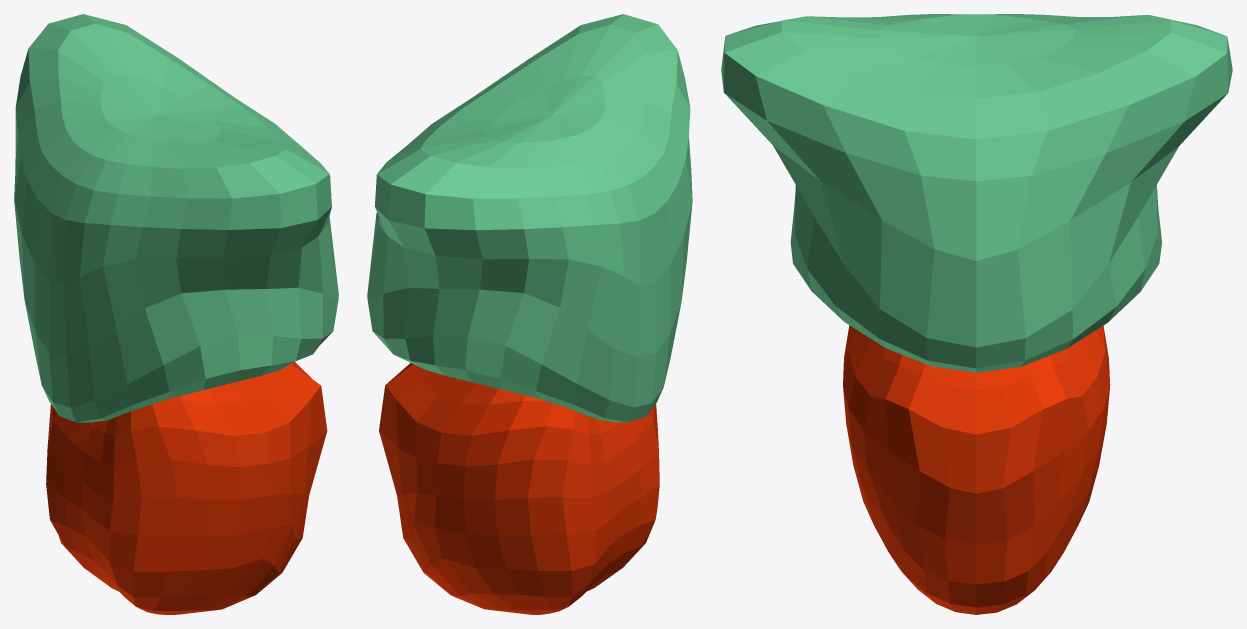
The model's file is torso_variant-3.glb.
3 renders of one model, left to right at view 1: azimuth 30°, elevation 25°; view 2: azimuth 150°, elevation 25°; view 3: azimuth 270°, elevation 25°, orthographic. The views are drawn at different scales.
Parts seen in each view (by area): view 1: torso-1, belly-1; view 2: torso-1, belly-1; view 3: torso-1, belly-1.
Part boxes in pixels (<box>): torso-1: <box>14,14,338,422</box>; belly-1: <box>46,361,327,614</box>; torso-1: <box>367,14,692,422</box>; belly-1: <box>379,363,659,614</box>; torso-1: <box>721,14,1232,372</box>; belly-1: <box>843,325,1110,614</box>.
Bounding box in the file's own units: 0.6619 × 1.2 × 0.9923.
